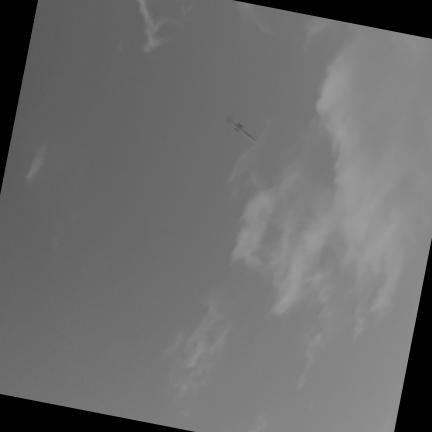Shahed: (225, 115, 256, 141)
